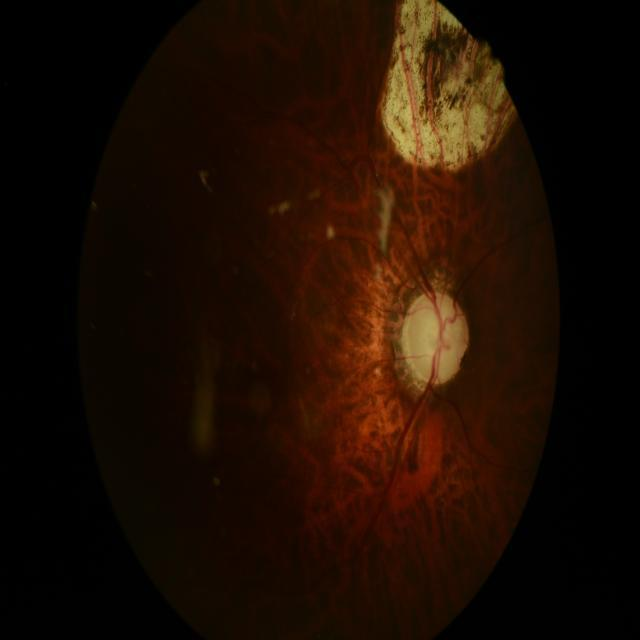cup: (412, 300, 457, 374)
disk: (402, 289, 470, 386)
